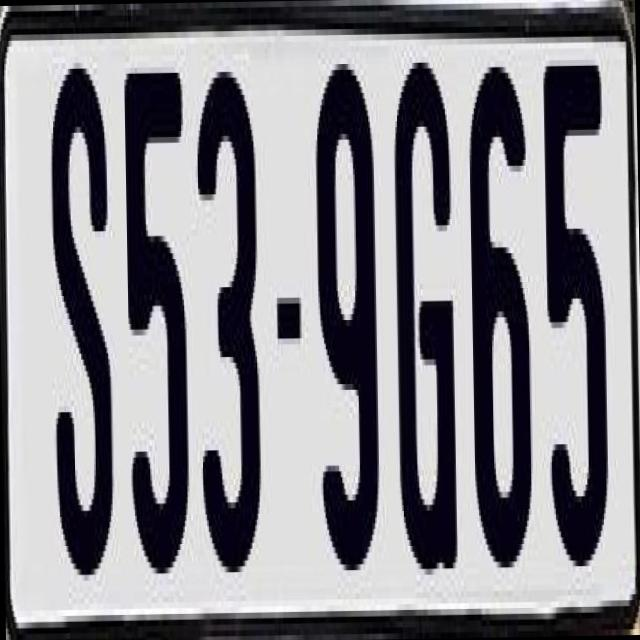3: (191, 59, 259, 572)
5: (120, 55, 192, 568), (538, 48, 610, 554)
6: (466, 66, 540, 603)
9: (312, 63, 380, 576)
G: (390, 56, 456, 574)
S: (48, 50, 118, 569)
